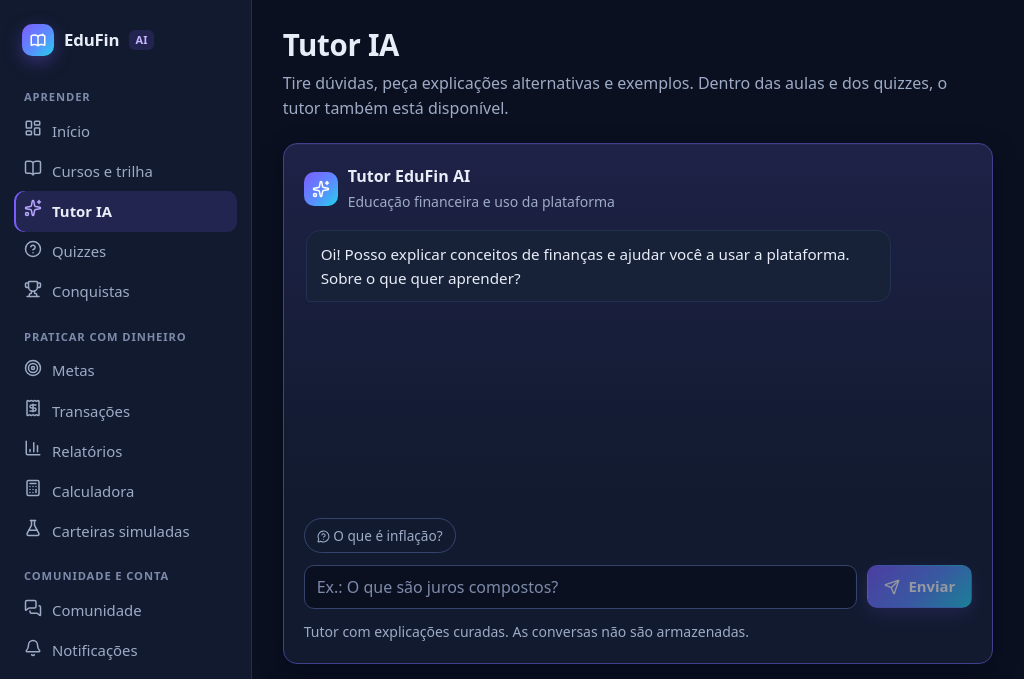
Test: tutor › responde, oferece outra explicação e um exemplo usando a resposta anterior
Click the button "O que é inflação?" at (380,535), box [304,518,456,553]
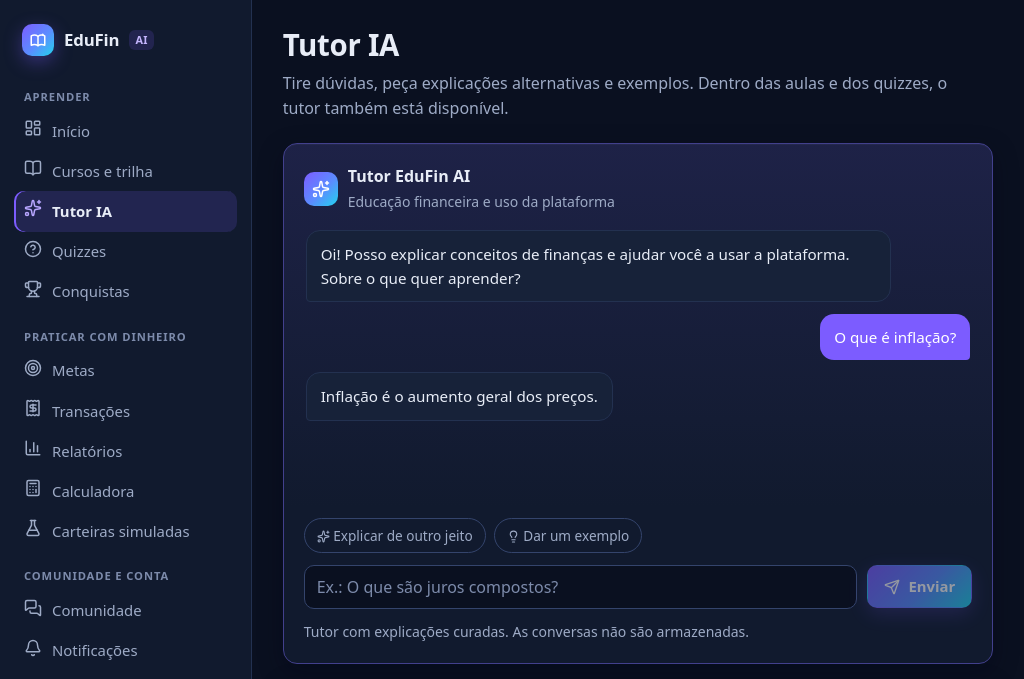
Expected: the text "Inflação é o aumento geral dos preços." is shown, [306,372,613,421]
Click the button "Explicar de outro jeito" at (395,535), box [304,518,486,553]
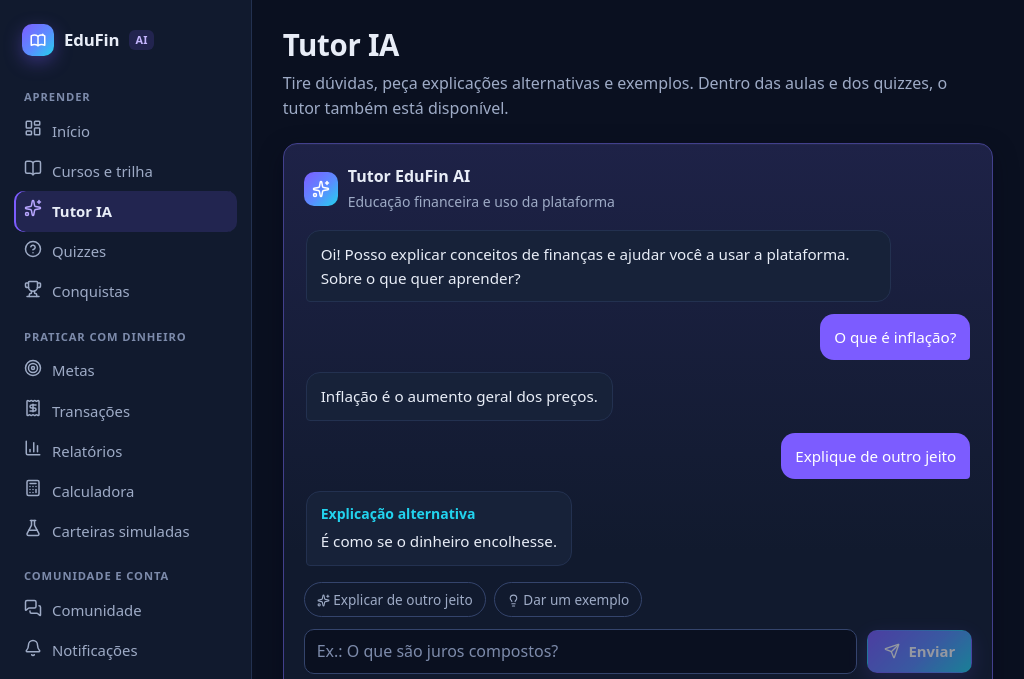
Expected: the text "É como se o dinheiro encolhesse." is shown, [321,532,557,552]
Expected: the text "Explicação alternativa" is shown, [321,504,476,523]
